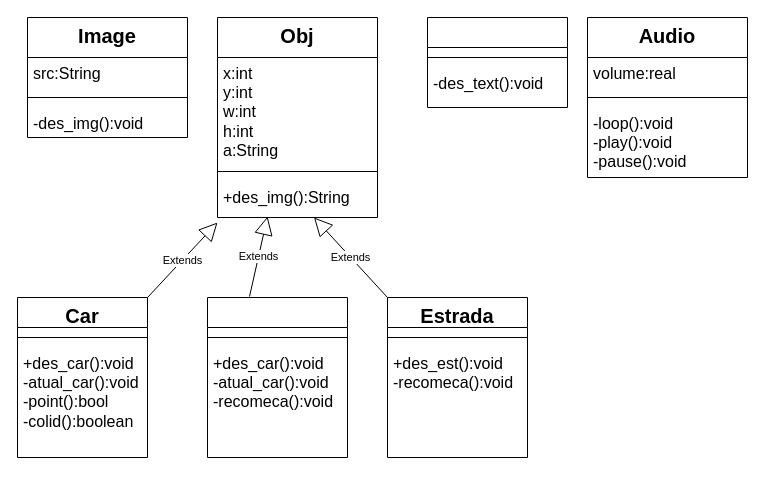
The diagram is 765 pixels wide and 478 high, and some of its shapes have lost their labels. Here are the shapes that lost their labels. From the top down, the box of each, then its label:
(426, 16, 568, 108): Texto
(206, 296, 348, 458): Inimigo
